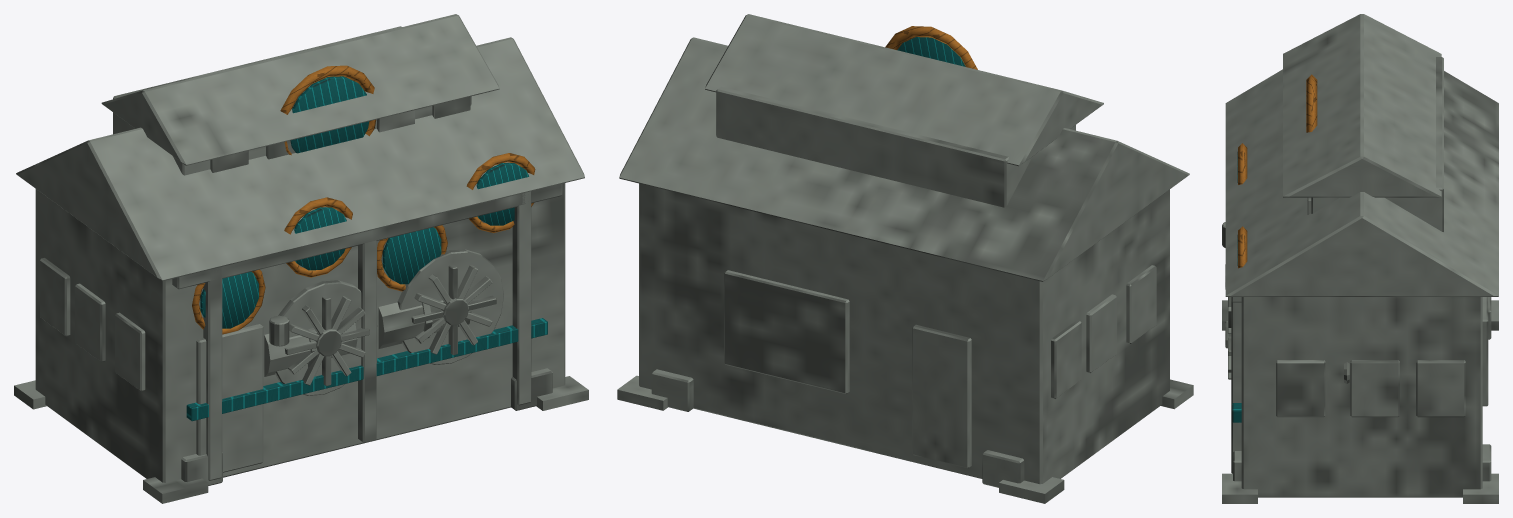
Rendered from dynamo-hall.e8.glb.
3 renders of one model, left to right at view 1: azimuth 30°, elevation 25°; view 2: azimuth 150°, elevation 25°; view 3: azimuth 270°, elevation 25°, orthographic. The views are drawn at different scales.
Visible parts, largest first — view 1: DynamoHallE8SolarLensArray; view 2: DynamoHallE8SolarLensArray; view 3: DynamoHallE8SolarLensArray.
Boxes of the visible parts, x1,y1,x2,y2 form: DynamoHallE8SolarLensArray: [14, 14, 588, 503]; DynamoHallE8SolarLensArray: [617, 14, 1193, 503]; DynamoHallE8SolarLensArray: [1222, 14, 1498, 503].
Bounding box in the file's own units: 5.38 × 4.22 × 3.24.
Materials: 1 (1 with a texture image).
